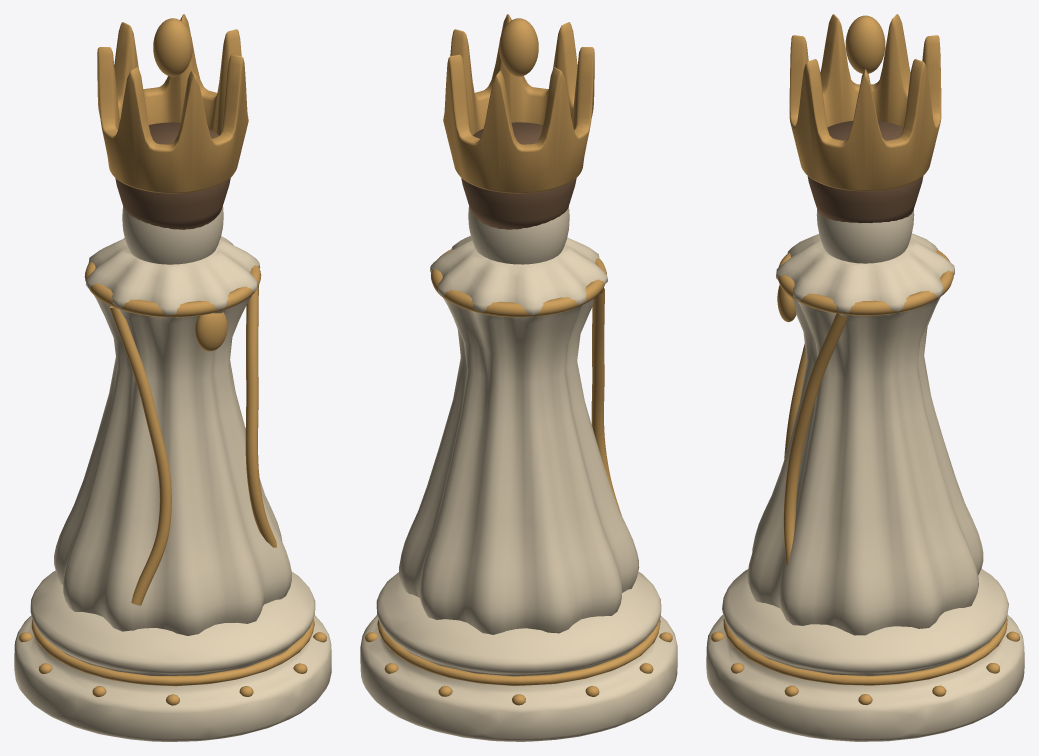
File: queen.glb
The picture shows the model from 3 angles, left to right: view 1: azimuth 30°, elevation 25°; view 2: azimuth 150°, elevation 25°; view 3: azimuth 270°, elevation 25°; orthographic projection.
Visible parts, largest first — view 1: PIECE_Queen_Sculpture, PIECE_Queen_Base; view 2: PIECE_Queen_Sculpture, PIECE_Queen_Base; view 3: PIECE_Queen_Sculpture, PIECE_Queen_Base.
Part boxes in pixels (x1,y1,x2,y2): PIECE_Queen_Sculpture: [54, 14, 291, 635]; PIECE_Queen_Base: [14, 570, 331, 741]; PIECE_Queen_Sculpture: [398, 14, 639, 634]; PIECE_Queen_Base: [360, 571, 677, 741]; PIECE_Queen_Sculpture: [747, 14, 983, 635]; PIECE_Queen_Base: [706, 568, 1024, 741].
Size of the model in its own units: 0.719 by 1.65 by 0.719.
